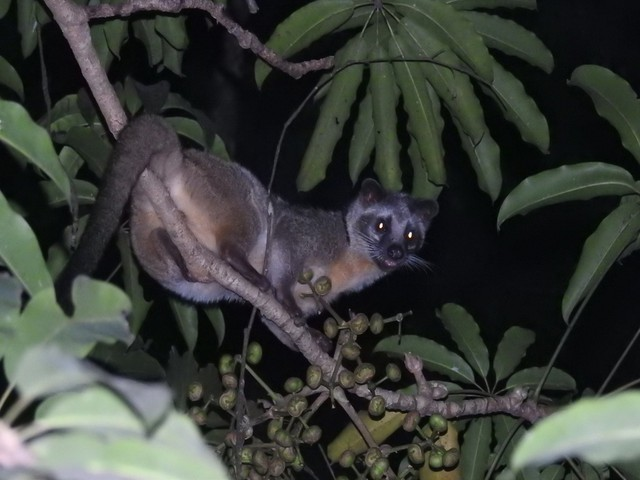civet: (53, 109, 441, 319)
